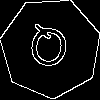Q: (25, 23, 71, 77)
